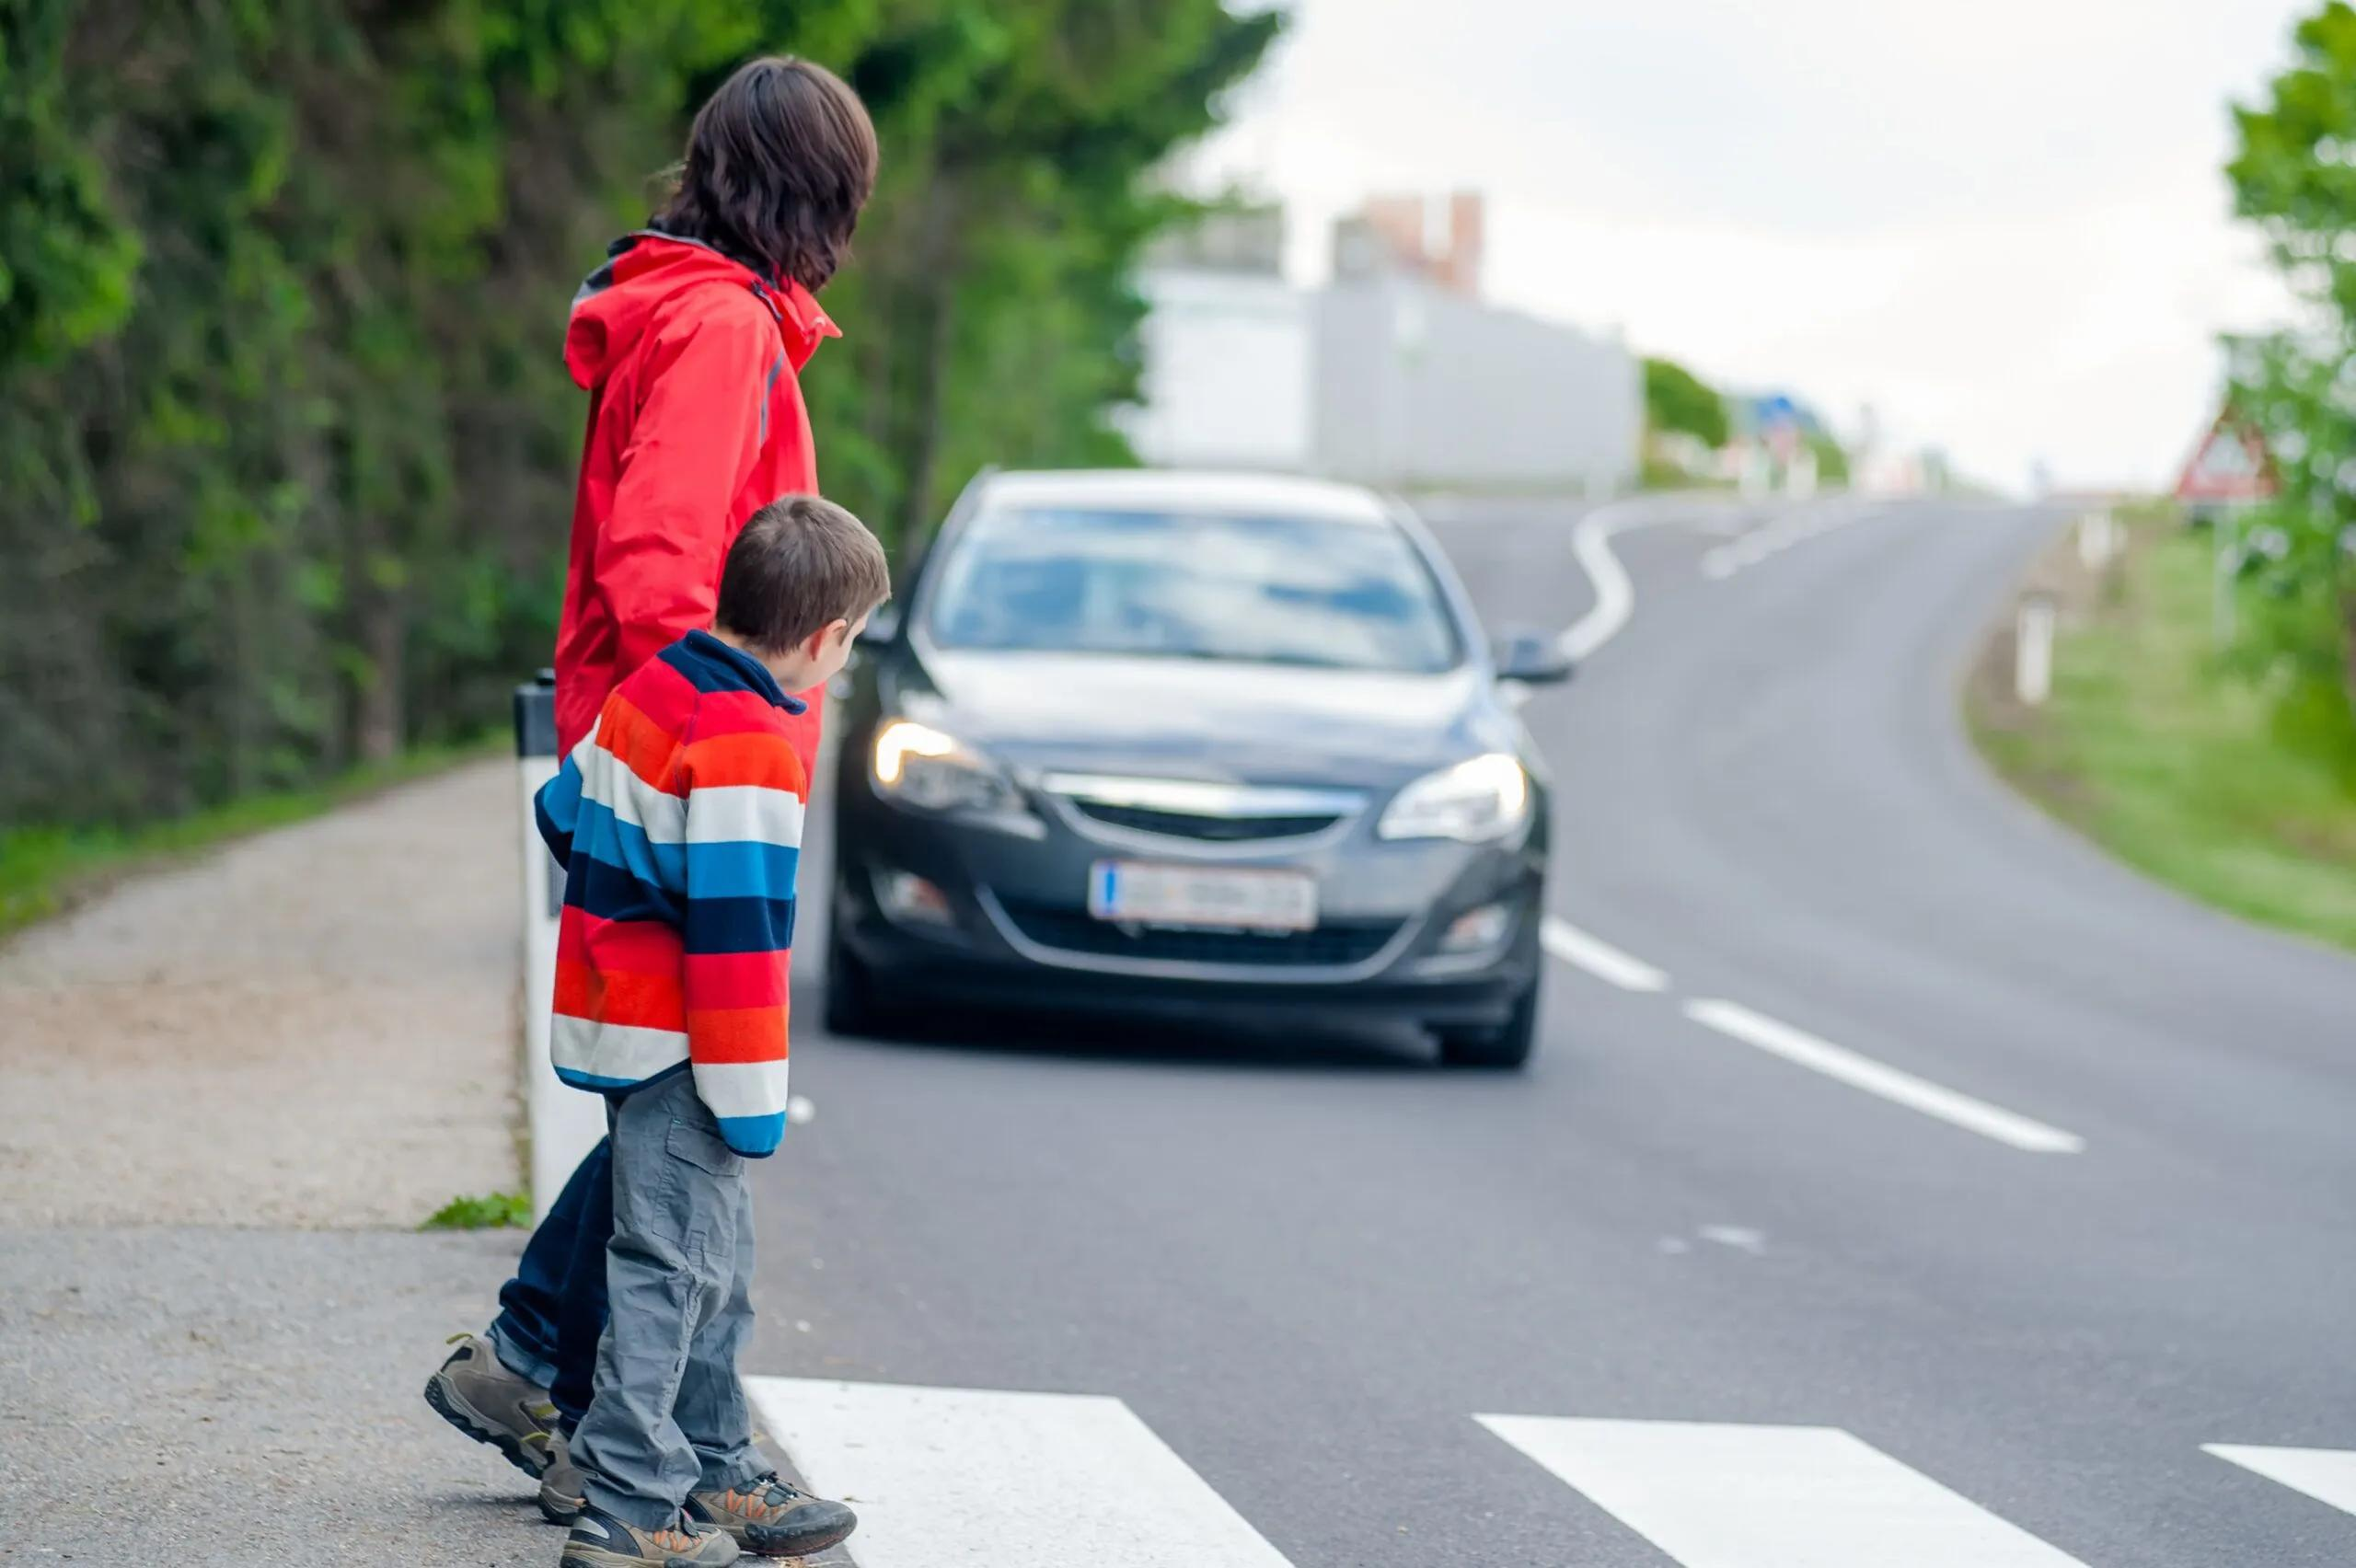car: (839, 443, 1608, 1110)
pedestrian: (422, 47, 888, 1481), (526, 492, 929, 1568)
